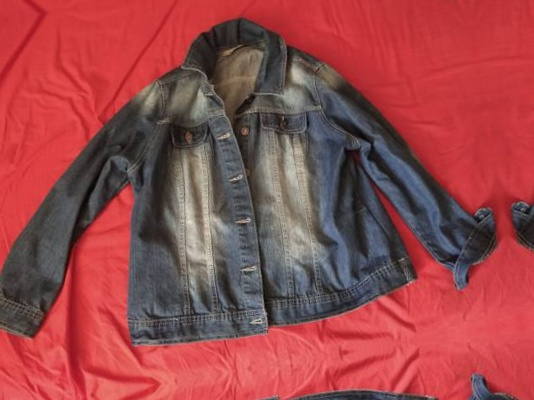Blazer: (0, 0, 503, 369), (27, 364, 534, 400), (474, 0, 534, 282)
